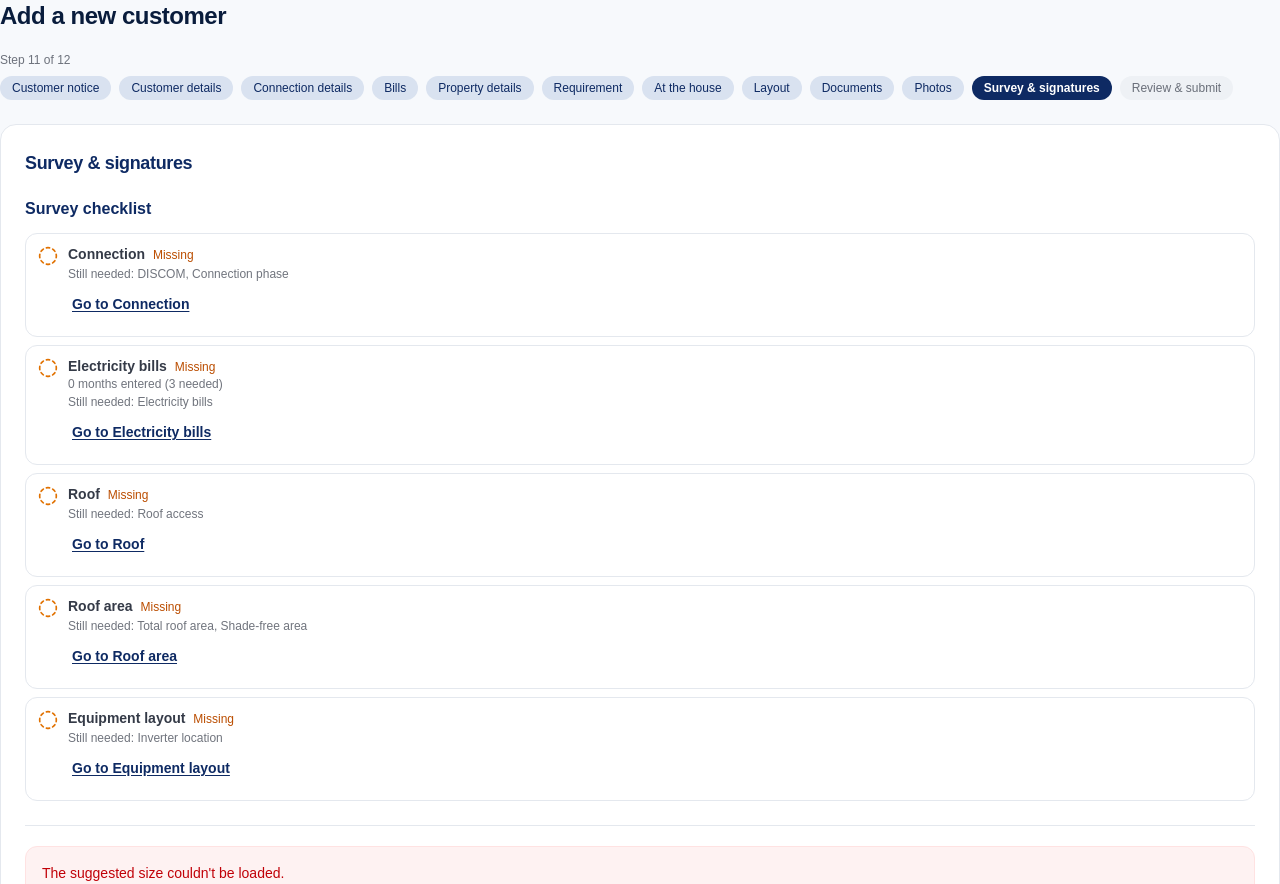
survey step › lists sections with deep links that land on the right step
Expected: the list item with test id "survey-section-roof" shows "Missing", [108,488,148,502]
Expected: the list item with test id "survey-section-roof" shows "Roof access", [68,507,203,521]
Click the button "Go to Equipment layout". click: (151, 768)
box: [68,746,234,790]
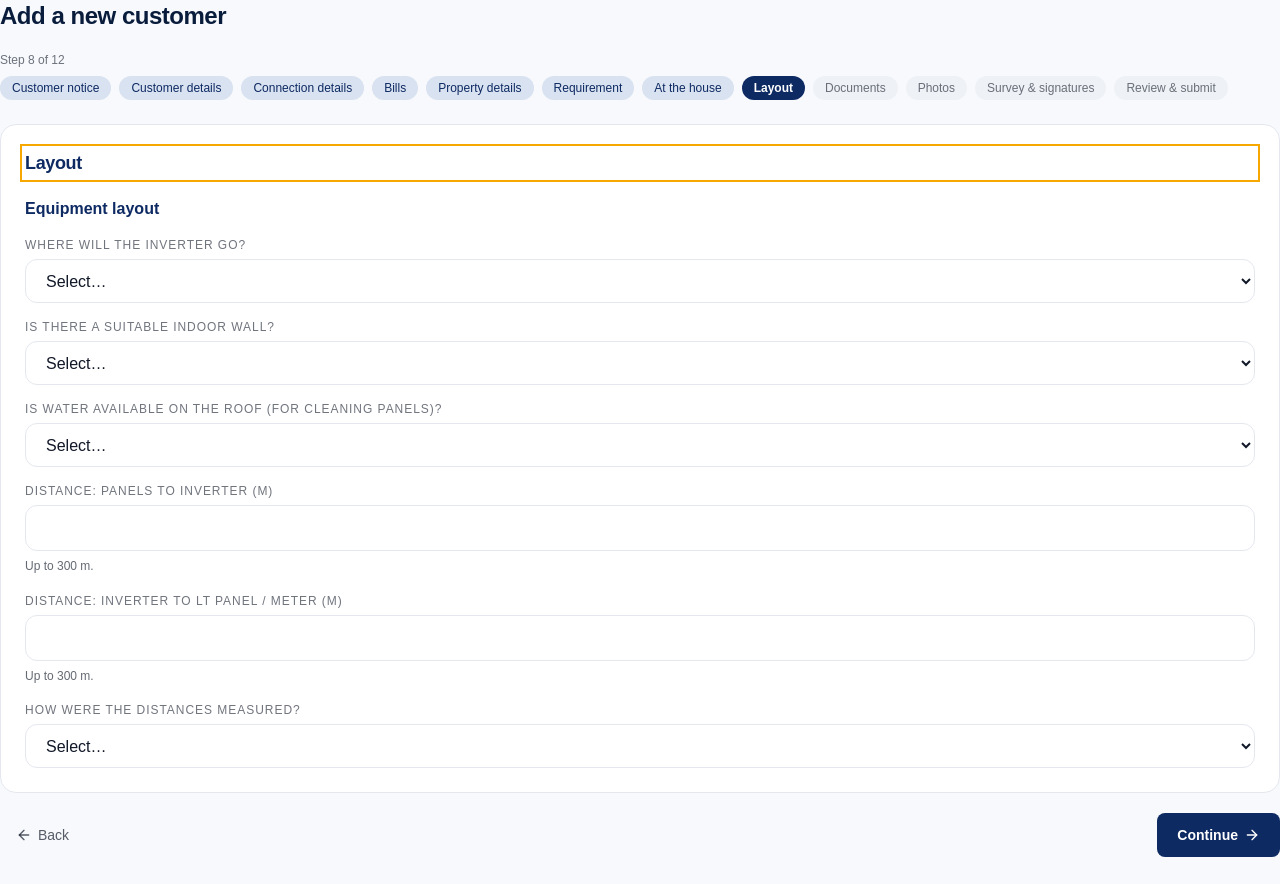
Now the element with test id "survey-layout" is shown
